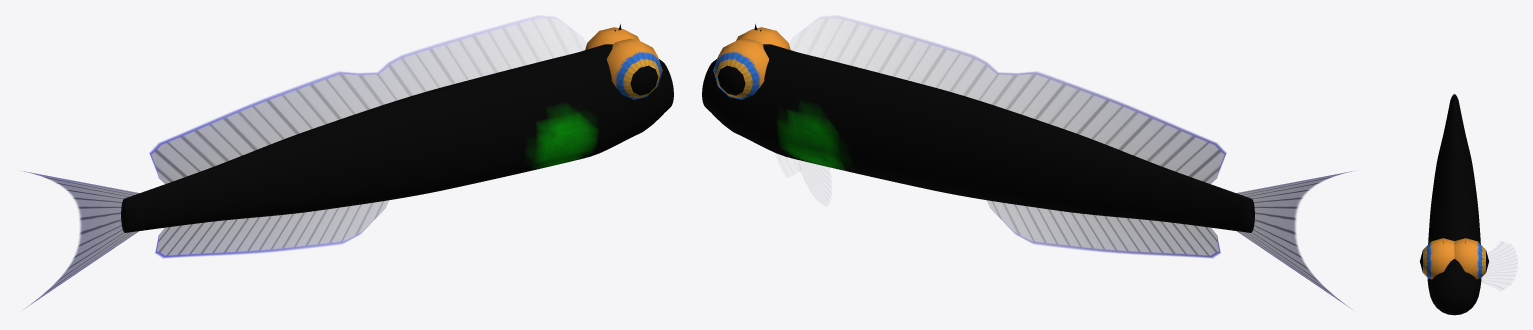
File: midas_blenny.glb
The picture shows the model from 3 angles, left to right: view 1: azimuth 30°, elevation 25°; view 2: azimuth 150°, elevation 25°; view 3: azimuth 270°, elevation 25°; orthographic projection. The views are drawn at different scales.
Visible parts, largest first — view 1: Body, FinDorsal, FinAnal, FinCaudal, EyeR, EyeL; view 2: Body, FinDorsal, FinAnal, FinCaudal, EyeL, EyeR; view 3: Body, EyeL, EyeR.
Boxes of the visible parts, x1,y1,x2,y2 form: Body: (121, 24, 673, 232); FinDorsal: (149, 21, 540, 184); FinAnal: (155, 201, 388, 257); FinCaudal: (22, 171, 139, 307); EyeR: (607, 38, 662, 99); EyeL: (585, 27, 639, 50); Body: (702, 24, 1254, 232); FinDorsal: (835, 21, 1226, 184); FinAnal: (987, 201, 1220, 257); FinCaudal: (1236, 171, 1353, 307); EyeL: (713, 38, 768, 99); EyeR: (736, 27, 790, 50); Body: (1427, 94, 1481, 315); EyeL: (1454, 238, 1488, 279); EyeR: (1420, 238, 1454, 279).
Size of the model in its own units: 1 by 0.268 by 0.2341.
4 materials, 3 textured.
